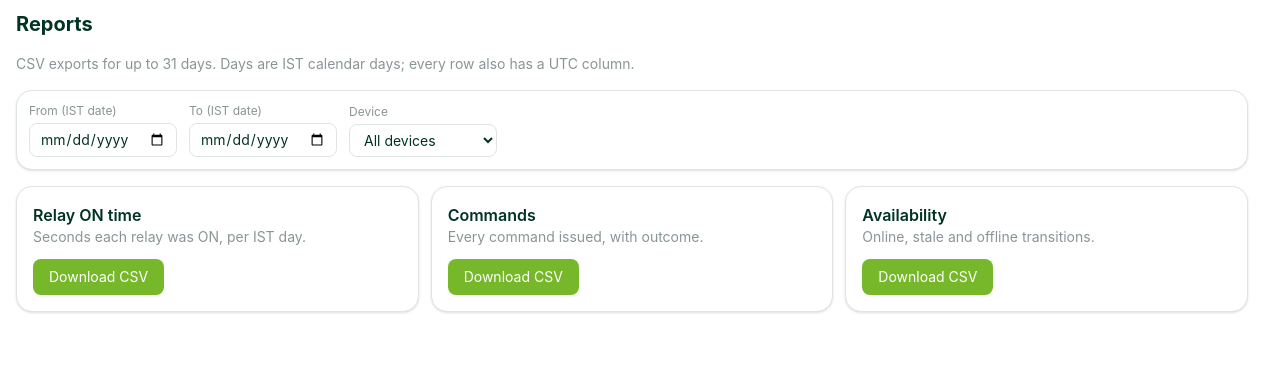
Scenario: ReportsPage › fetches with the bearer token (IST day bounds) and saves the file
The image size is (1265, 390).
Type "2026-11-01" into the date field labelled "From (IST date)" at (103, 140), box [29,123,177,157]
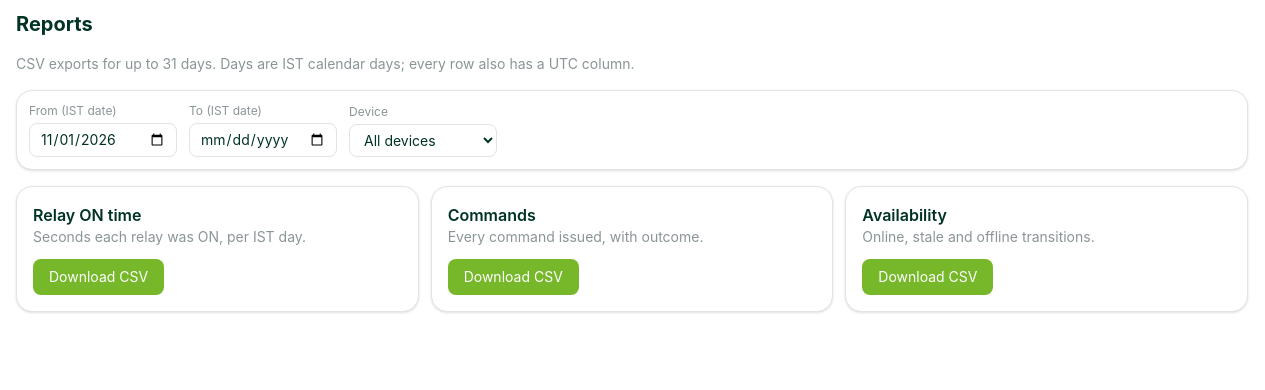
Type "2026-11-07" into the date field labelled "To (IST date)" at (263, 140), box [189,123,337,157]
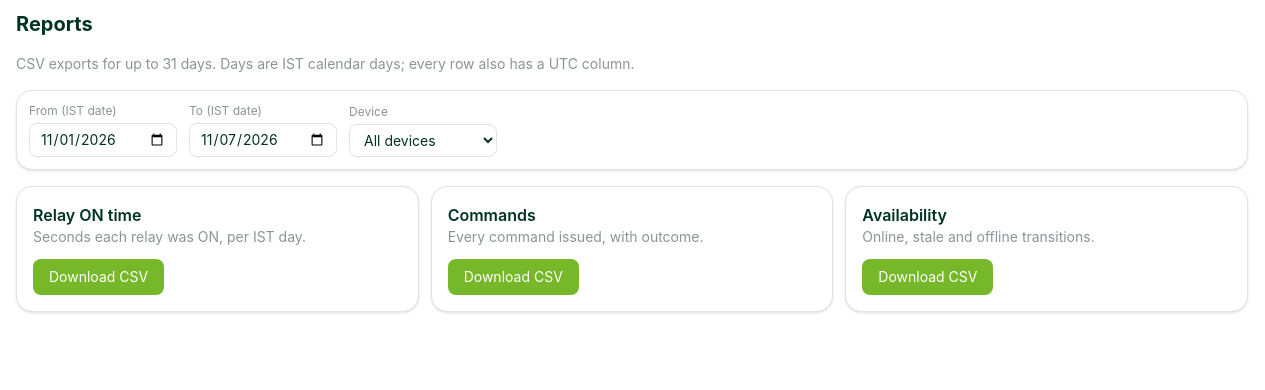
Select "LED Controller 1" in the dropdown labelled "Device" at (423, 140), box [349,124,497,157]
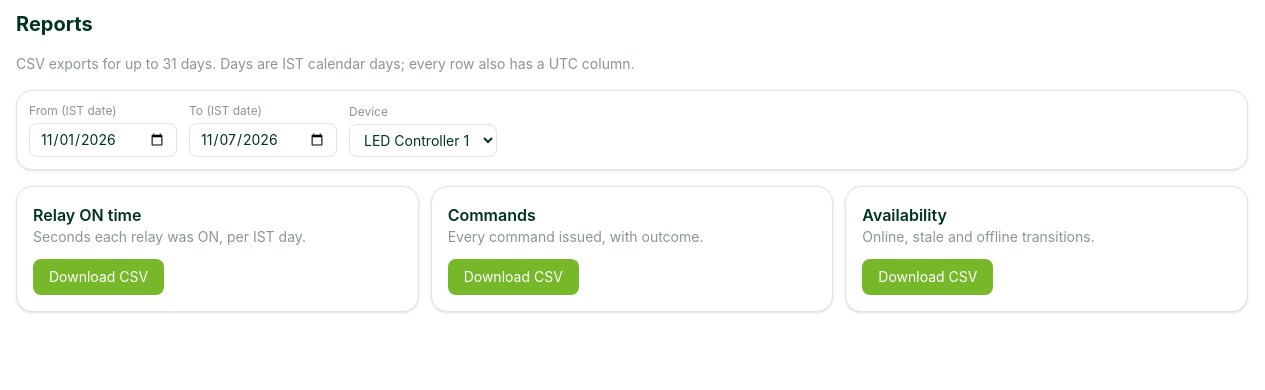
Click the button with aria-label "Download Commands CSV" at (513, 277), box [448,259,579,295]
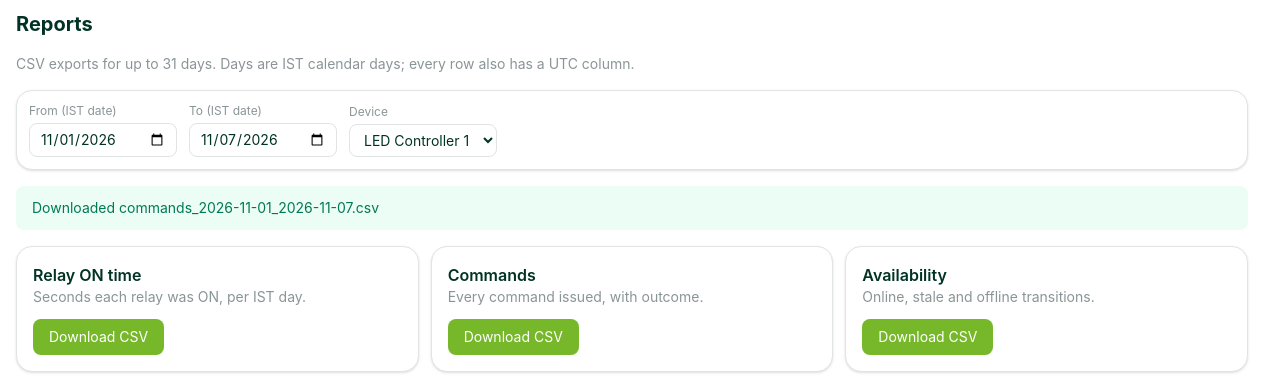
Now the message shows "commands_2026-11-01_2026-11-07.csv", box [119,199,379,216]
